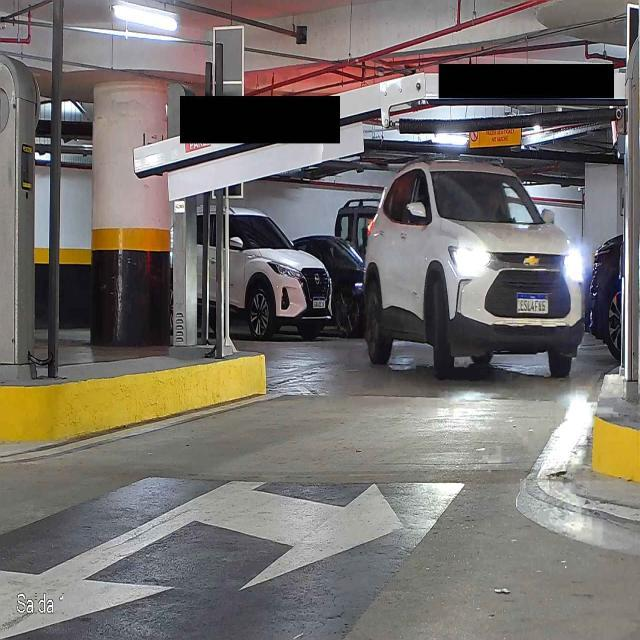mercosul_plate: (515, 292, 550, 314)
